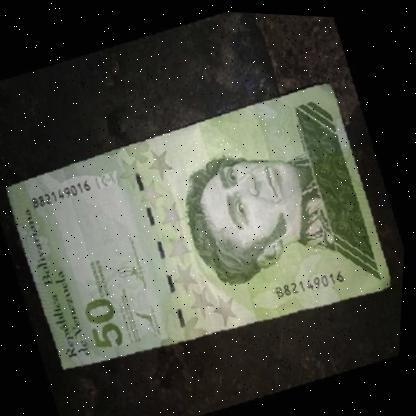fifty-front-vef: (0, 58, 409, 388)
